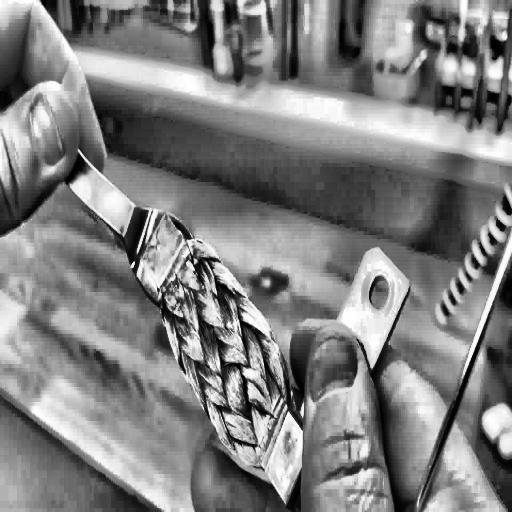busbar: (13, 87, 413, 512)
